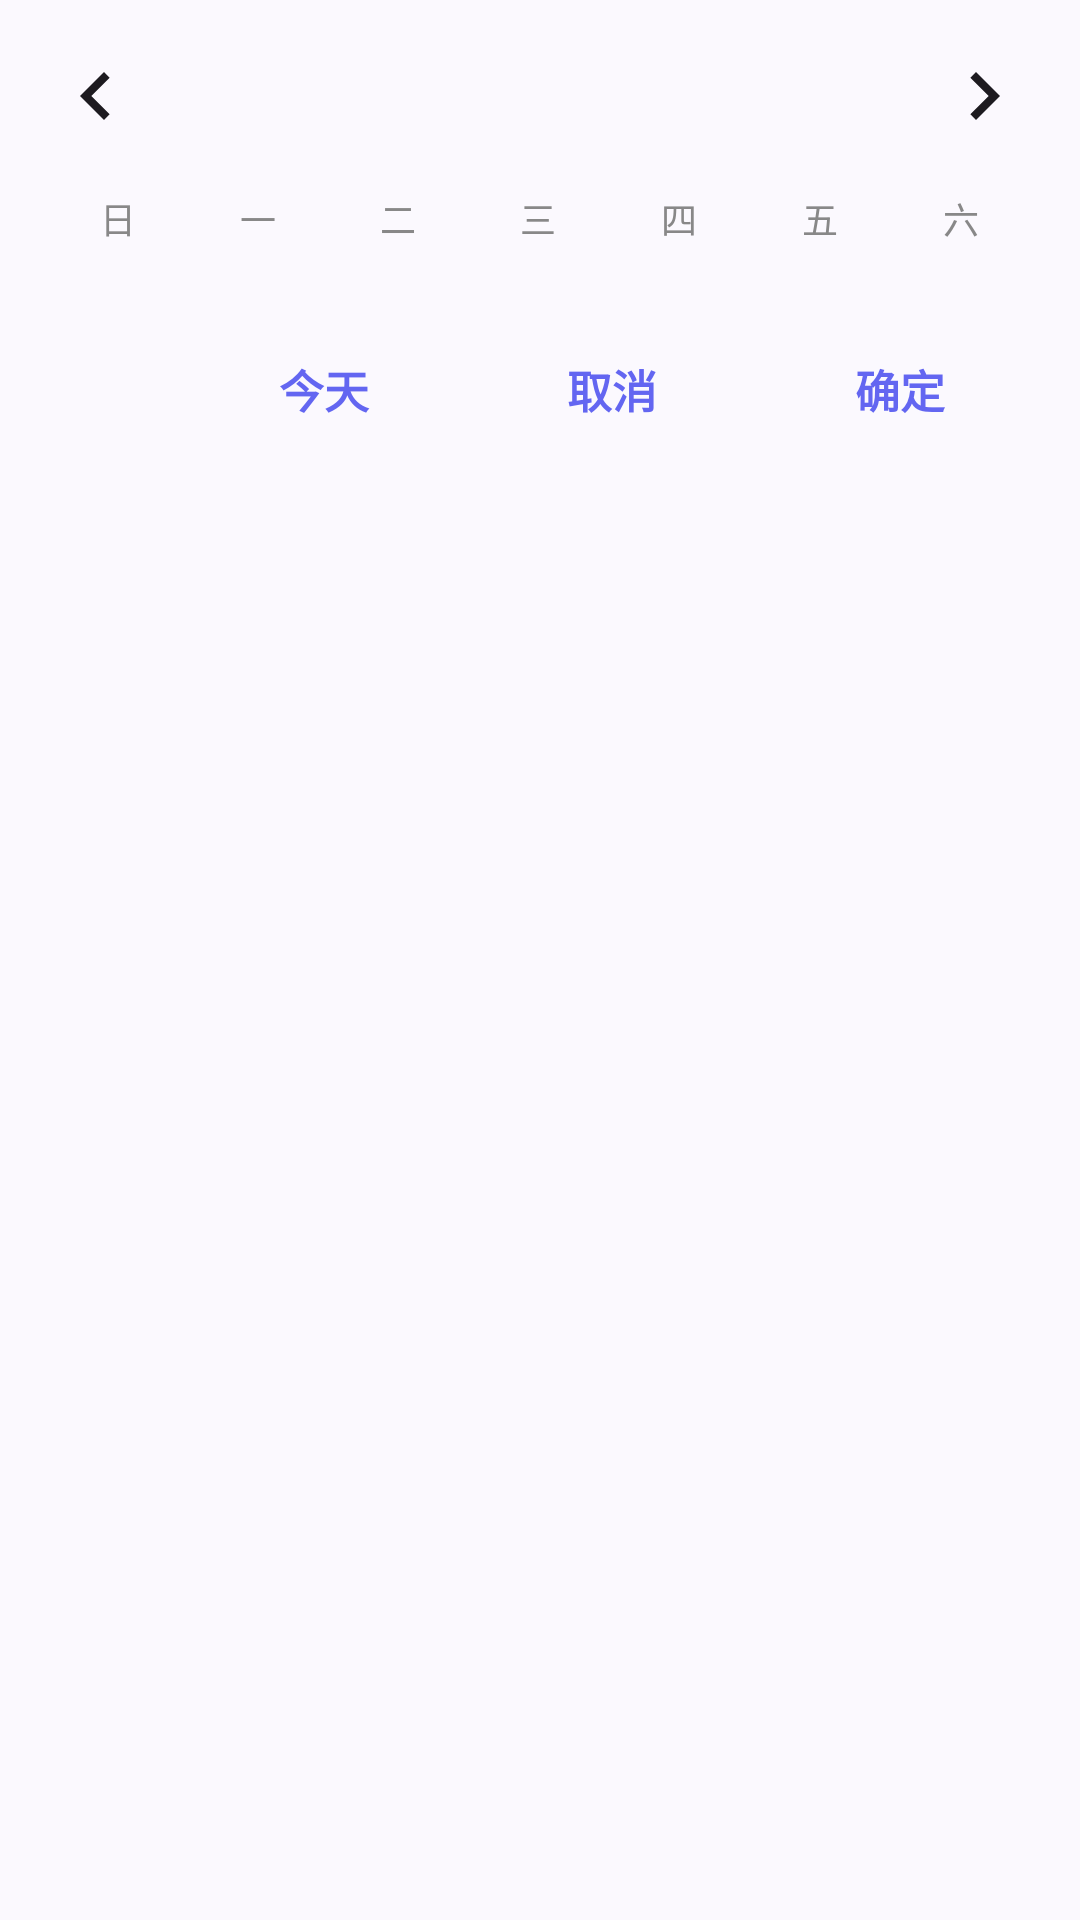

Locate icon controls on the screen. Image size 1080x1920, boxes as (left=x1, top=y1, right=x2, bottom=y2).
上个月: (left=80, top=72, right=110, bottom=120)
下个月: (left=970, top=72, right=1000, bottom=120)
